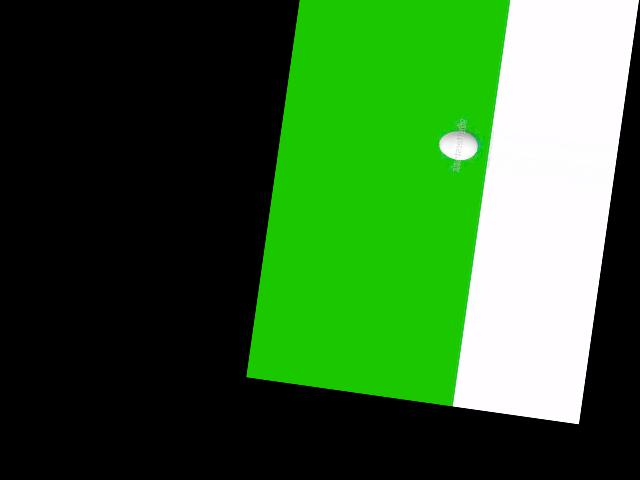egg: (437, 128, 479, 162)
